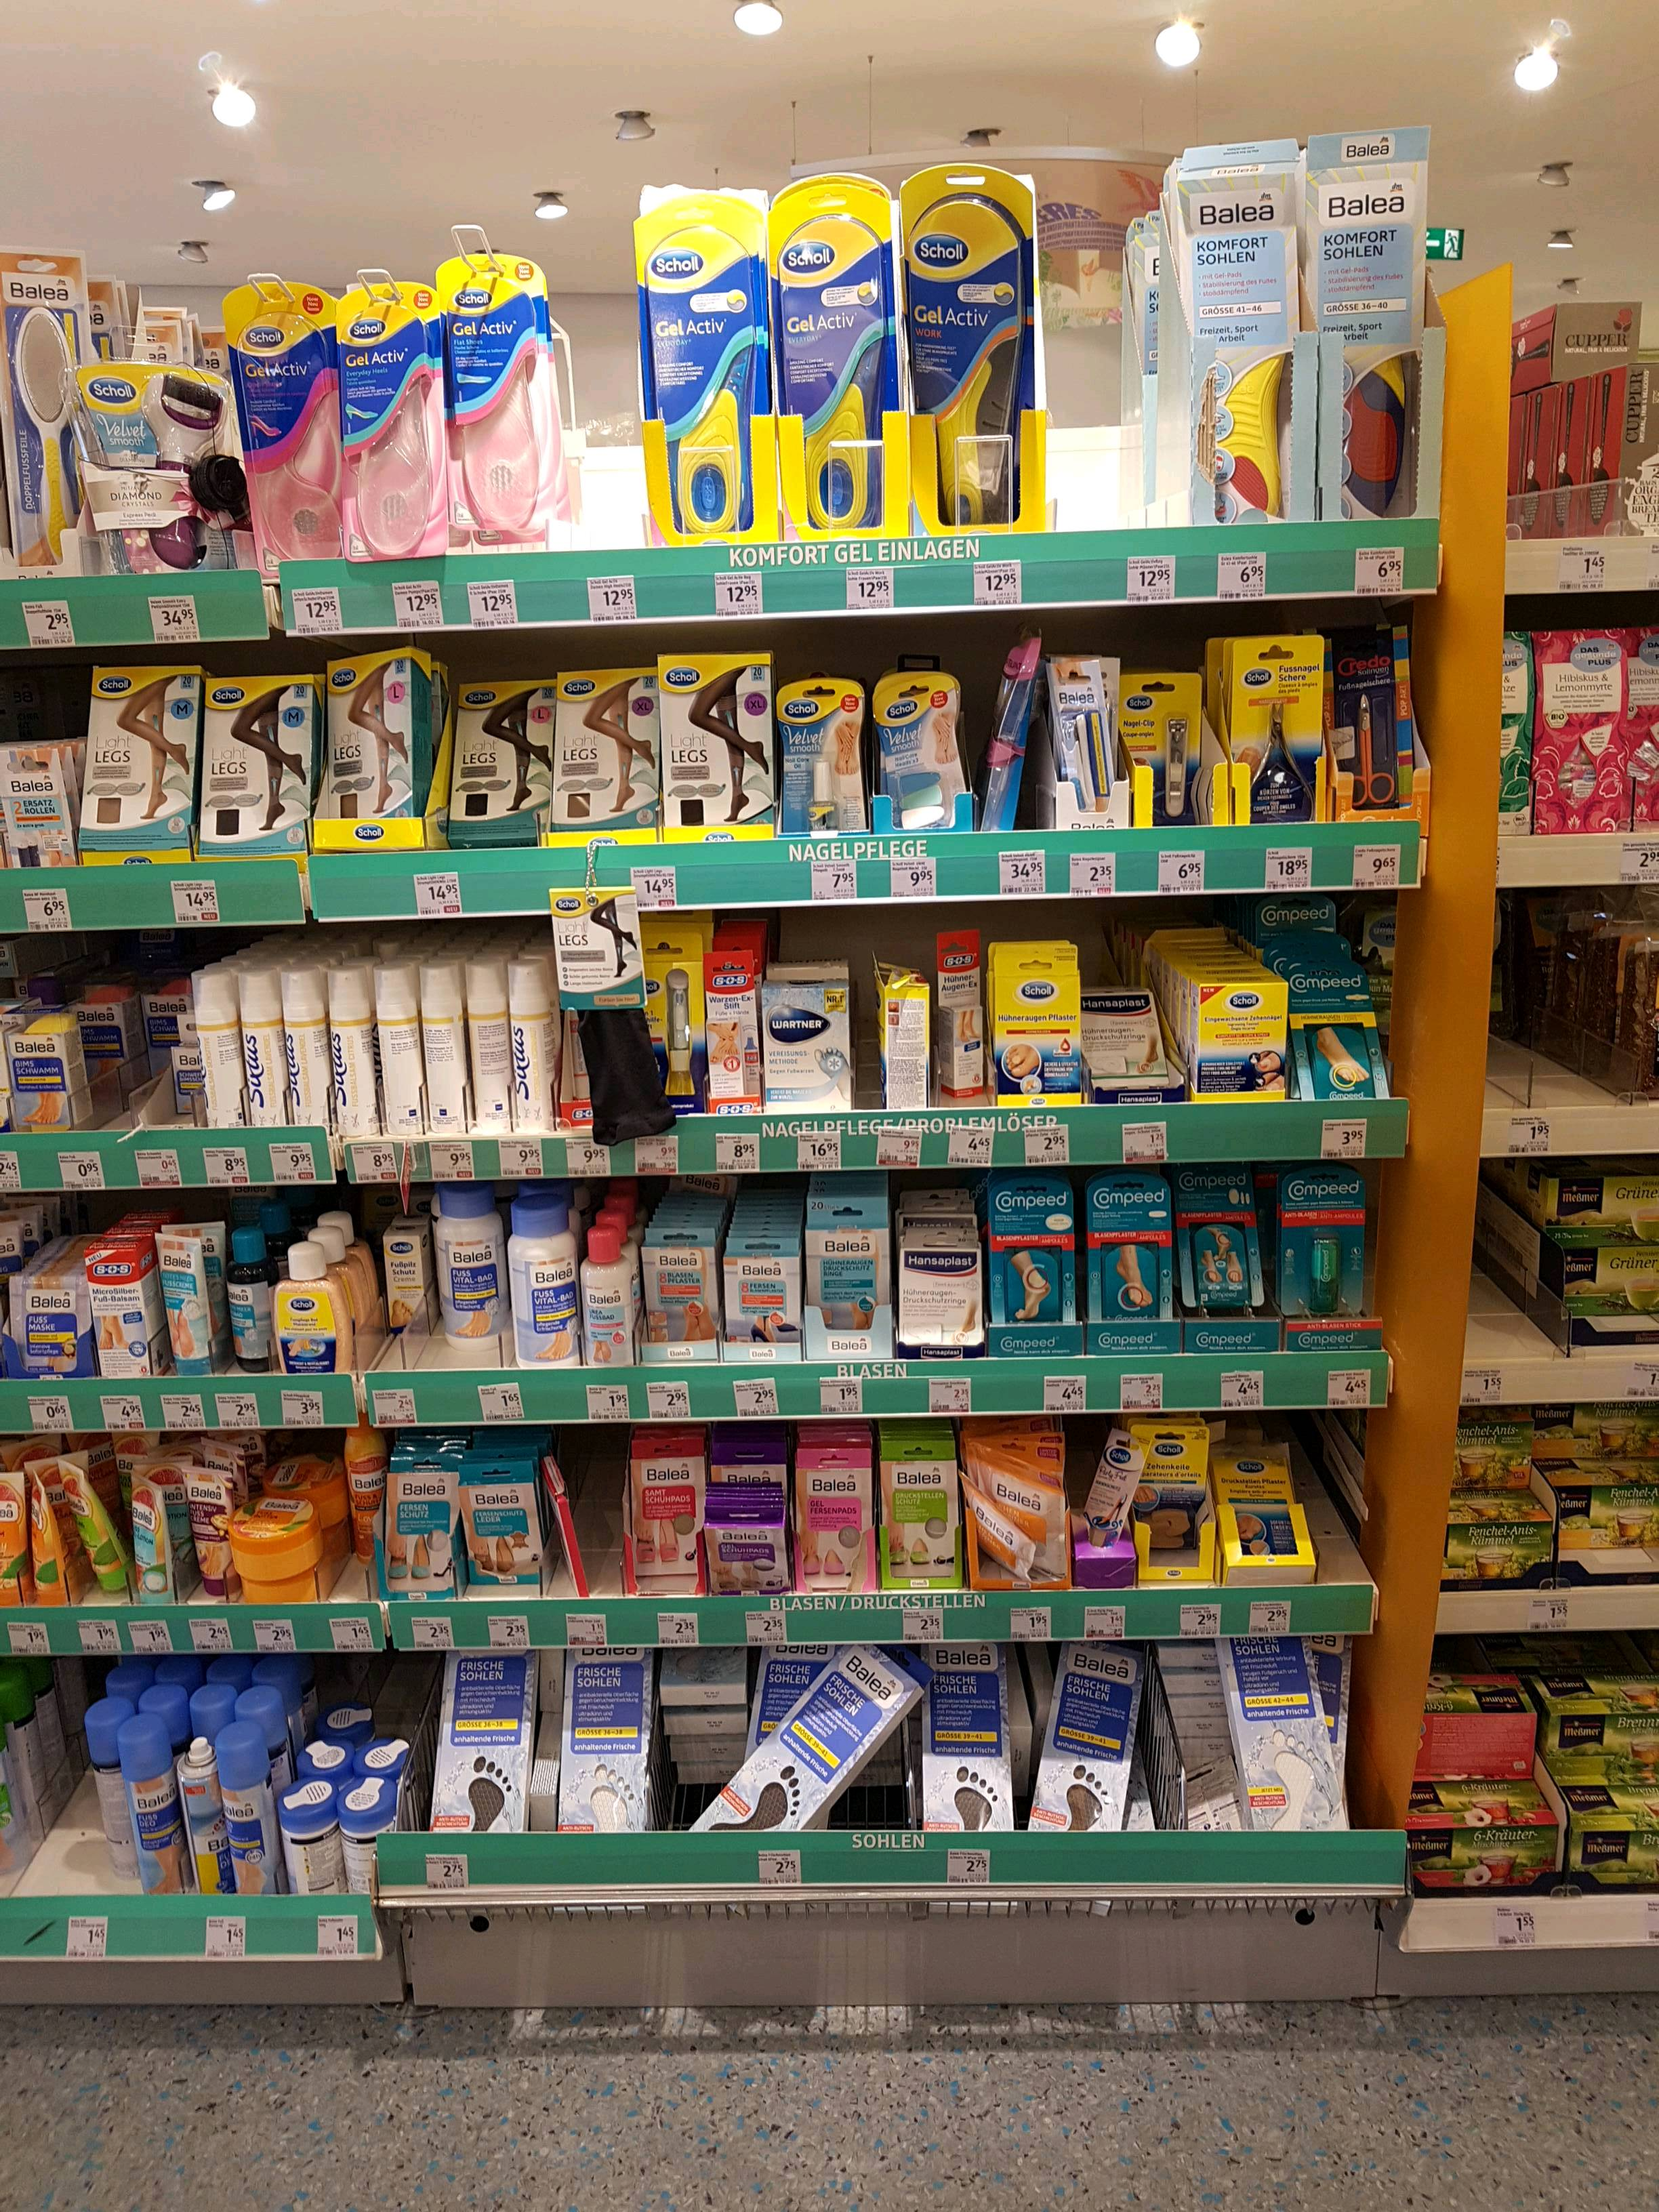Misplacement: (657, 1655, 918, 1825), (545, 1435, 627, 1601)
